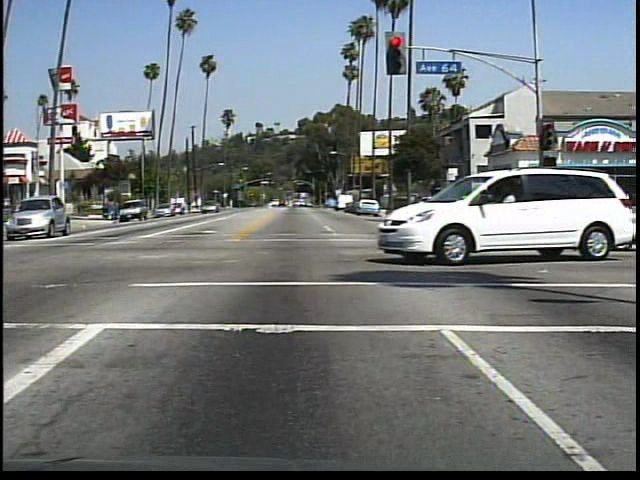person: (539, 186, 564, 236)
